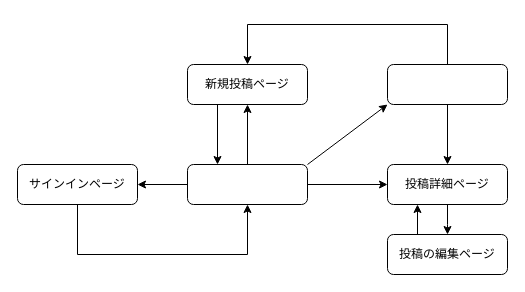
Some shapes in this 525 by 292 pixel diagram are drawn without their labels. The shapes that lost their labels are listed below. From the top down, each one's centre as x and y in pixels, then its label:
point (447, 84): ユーザーの マイページ
point (247, 184): TOPページ
